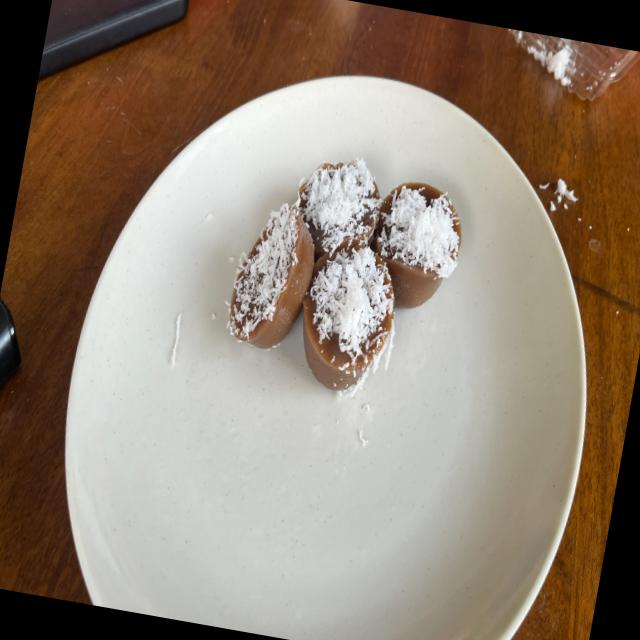Kuih lompang: (302, 246, 394, 390), (228, 197, 314, 349), (371, 182, 461, 309), (298, 157, 381, 260)
